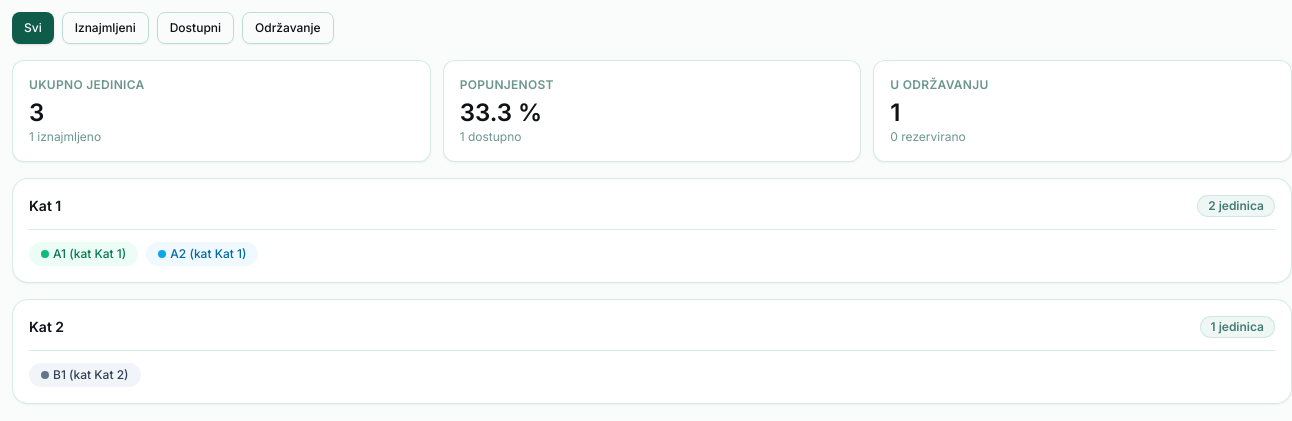
Test: filters units by status using toggle chips
Expected: the text "A1 (kat Kat 1)" is shown, left=29, top=242, right=138, bottom=266
Expected: the text "A2 (kat Kat 1)" is shown, left=146, top=242, right=258, bottom=266
Click the button "Iznajmljeni": (105, 28) left=62, top=12, right=149, bottom=44
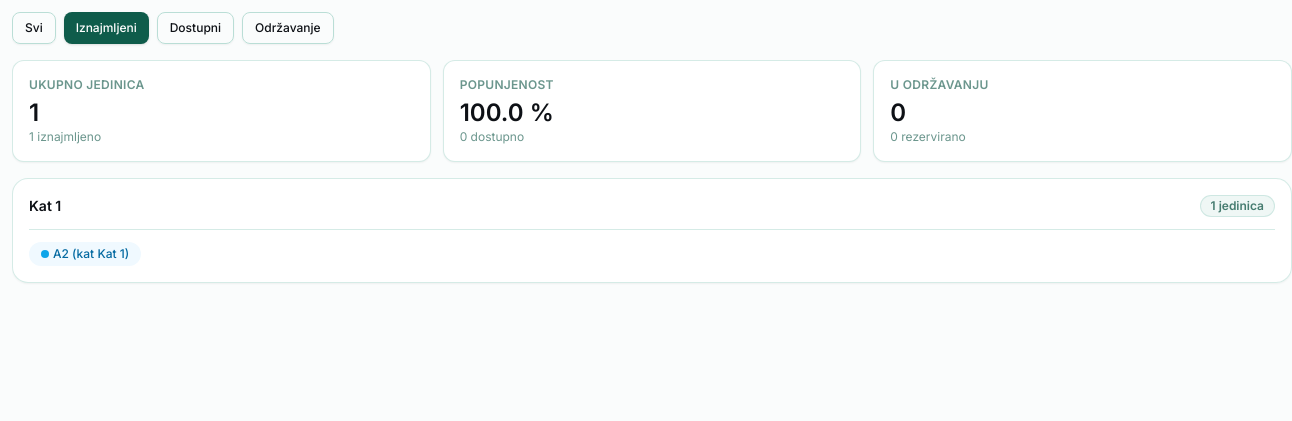
Expected: the text "A2 (kat Kat 1)" is shown, left=29, top=242, right=141, bottom=266
Now the text "A1" is gone
Now the text "B1" is gone
